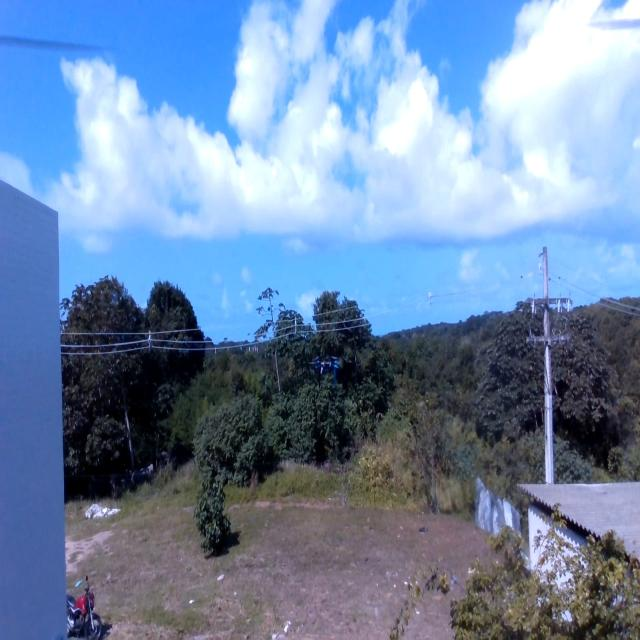-uav-: (314, 345, 341, 387)
